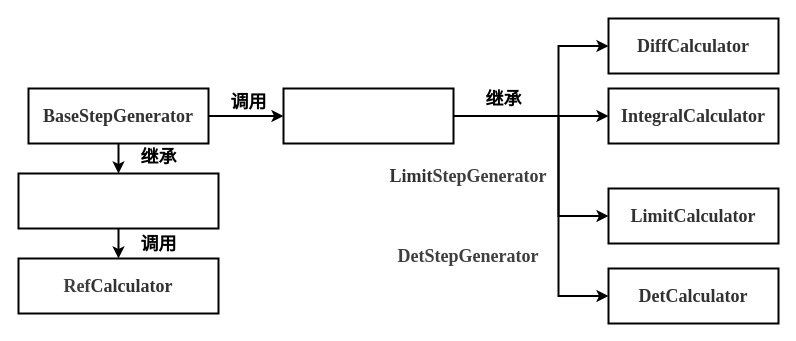
This 796x341 diagram has some shape labels left out. Each missing label, with the centre of its shape:
BaseCalculator: (368,115)
Ref StepGenerator: (118,200)
